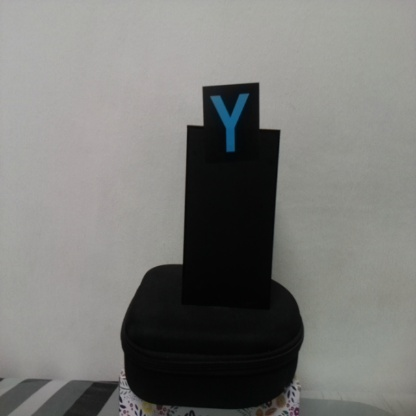id_14: (202, 85, 260, 162)
